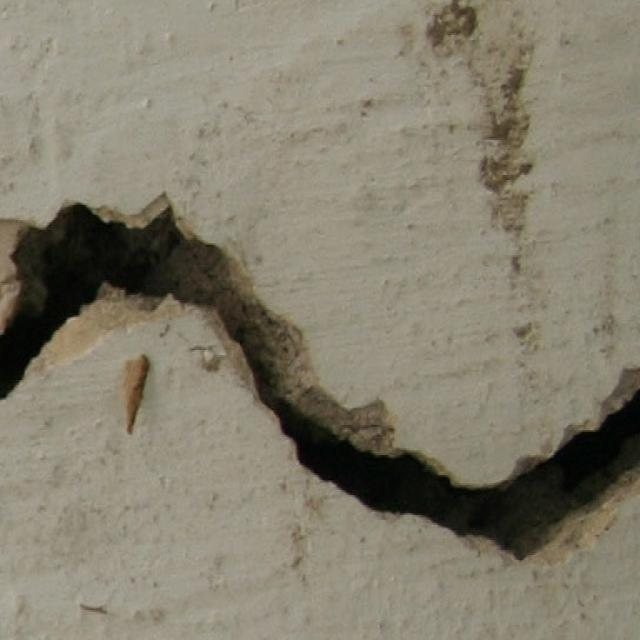Transverse: (1, 182, 640, 569)
